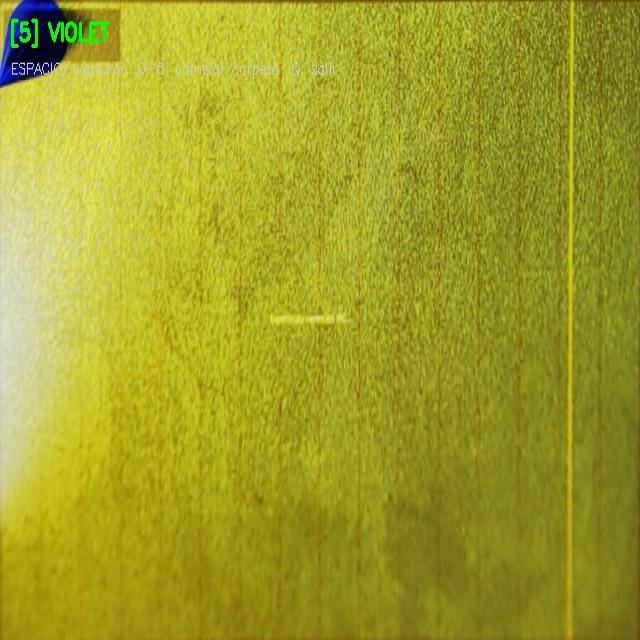violet: (0, 0, 66, 85)
